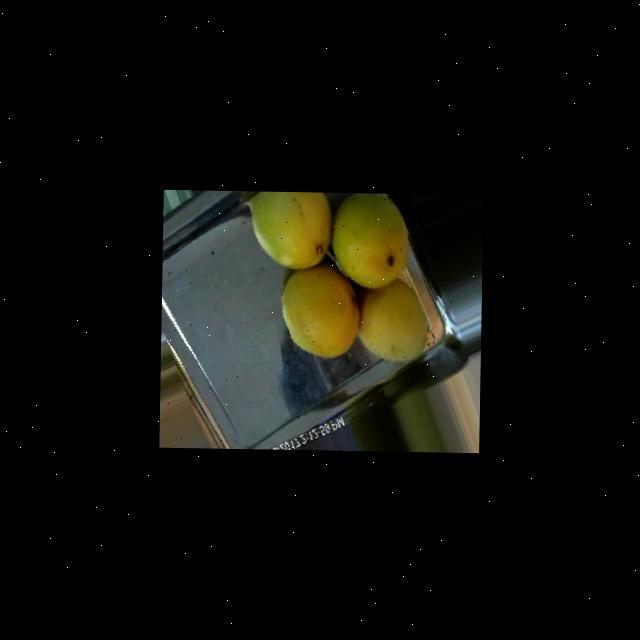Mango: (279, 262, 360, 358), (330, 192, 410, 288), (247, 191, 331, 269), (358, 278, 428, 362)
